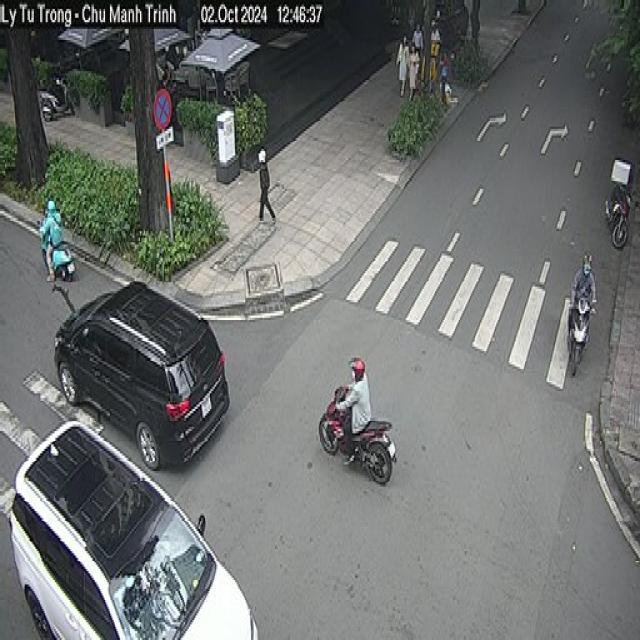car: (9, 418, 259, 638), (52, 278, 230, 471)
motorcycle: (318, 384, 397, 484), (566, 296, 596, 376), (37, 234, 76, 285), (607, 186, 638, 247), (41, 82, 81, 123)
person: (334, 356, 371, 464), (575, 249, 599, 332), (39, 198, 61, 280), (257, 147, 275, 222), (424, 16, 440, 74), (397, 26, 410, 94), (416, 16, 428, 68), (439, 74, 456, 110), (408, 36, 419, 90)
